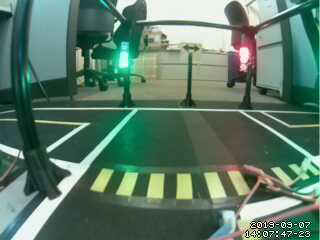Left_Right_sign: (178, 41, 204, 57)
Traffic_light_green: (118, 41, 128, 68)
Traffic_light_red: (236, 46, 250, 74)
